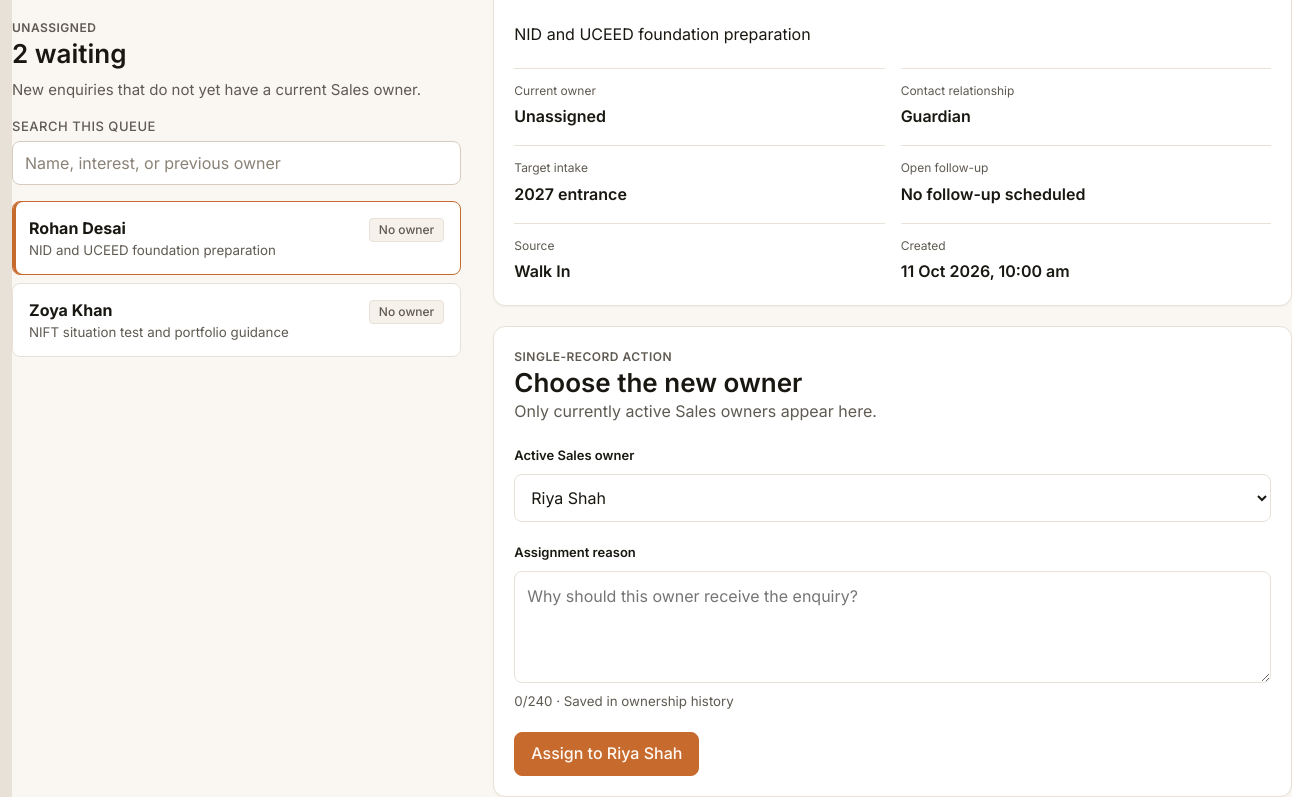
CrmAssignmentPage › assigns exactly one fictional enquiry with a reason
(page scrolled)
Select "Sameer Joshi" in the dropdown labelled "Active Sales owner" at (893, 498), box [514,474,1271,522]
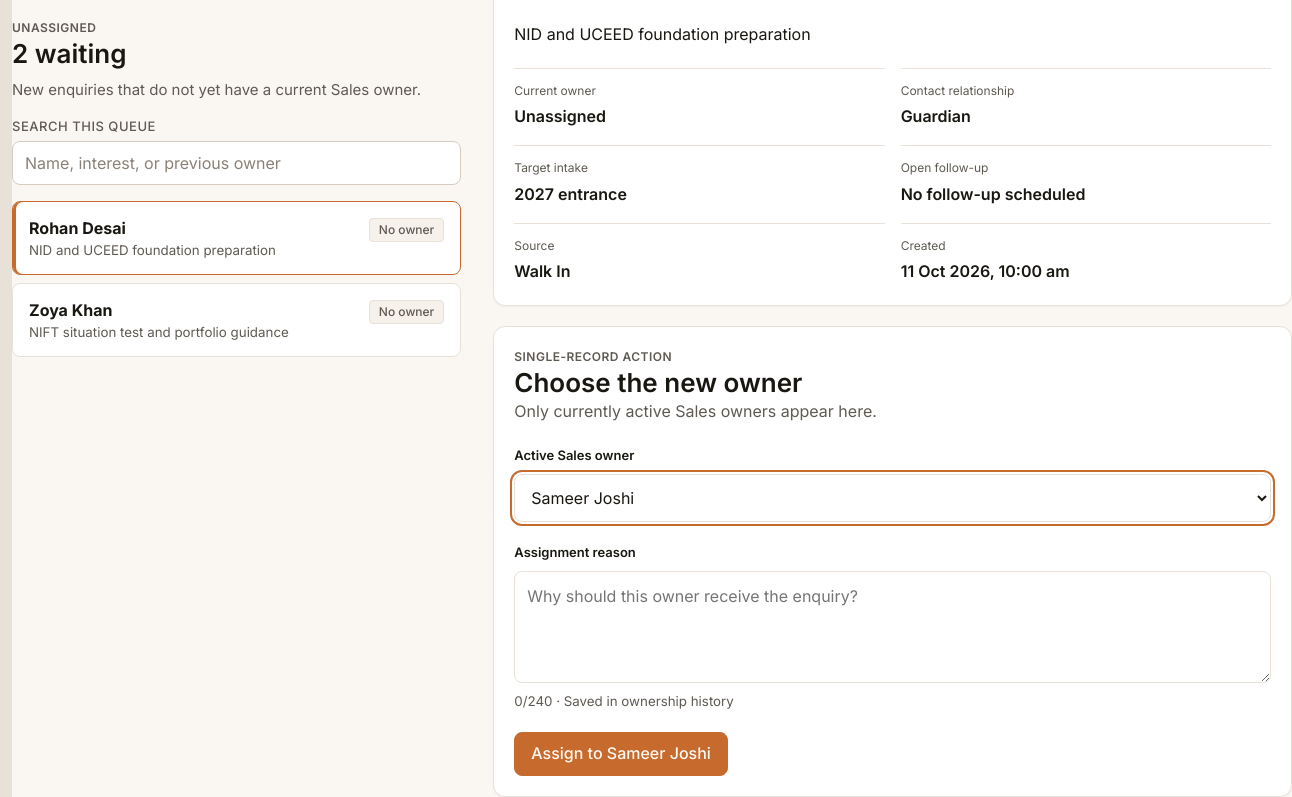
Type "Balanced current workload" into the text box labelled "Assignment reason" at (893, 626), box [514,570,1271,682]
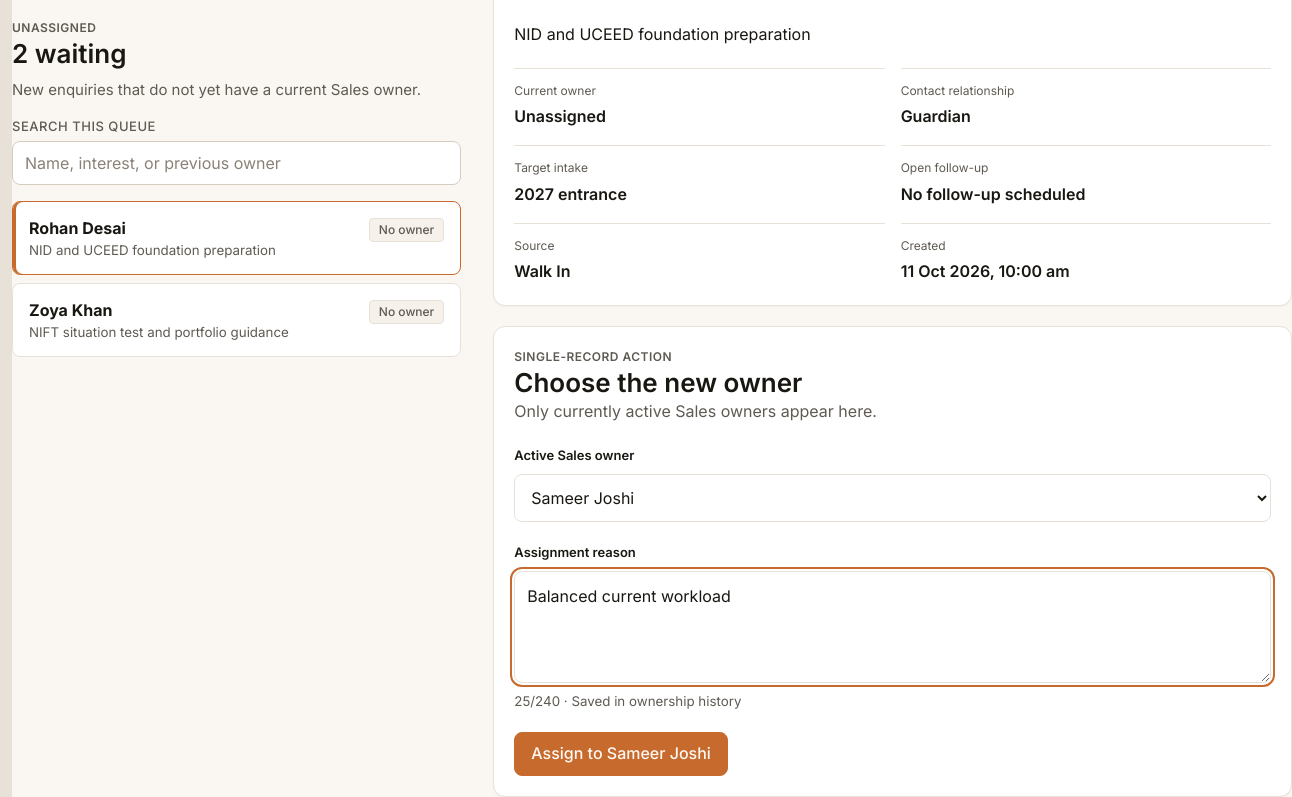
Click the button "Assign to Sameer Joshi" at (621, 754), box [514,732,728,776]
(page scrolled)
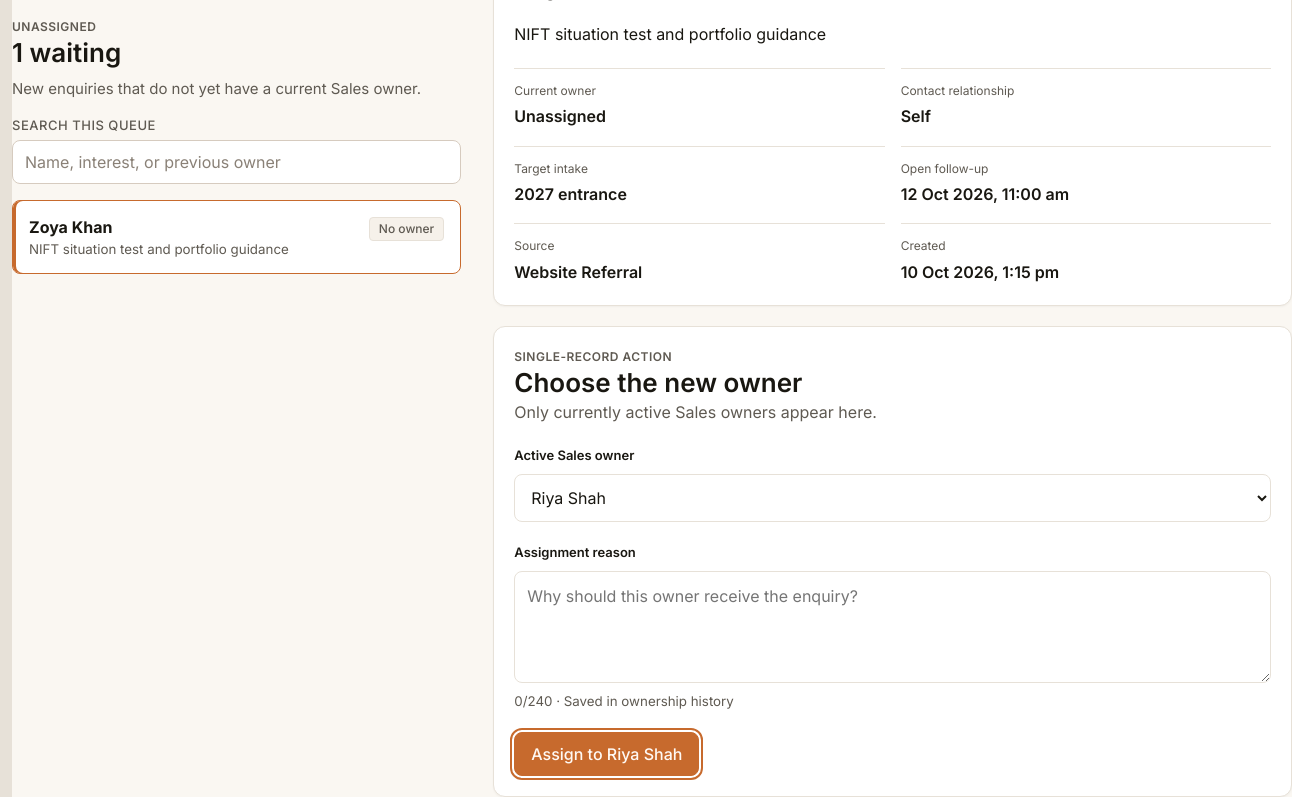
Expected: the heading "Rohan Desai" is not shown
Expected: the heading "1 waiting" is shown, [12,37,121,68]
